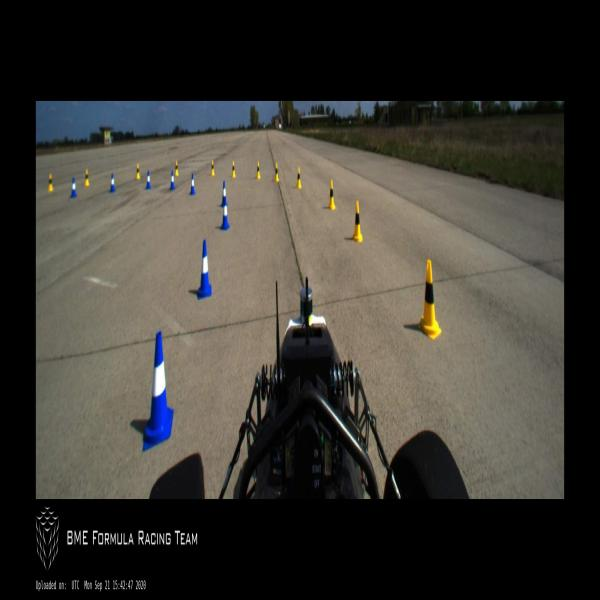blue_cone: (143, 332, 173, 451), (198, 240, 212, 297), (221, 199, 229, 229), (221, 182, 227, 206), (70, 178, 76, 198), (110, 173, 115, 193), (170, 170, 175, 190), (190, 174, 195, 194), (146, 171, 151, 190)
yellow_cone: (418, 258, 441, 339), (352, 202, 362, 242), (327, 179, 334, 210), (296, 167, 302, 189), (48, 174, 53, 191), (274, 163, 278, 183), (210, 160, 215, 175), (256, 161, 260, 179), (85, 169, 89, 186), (136, 163, 140, 179), (232, 160, 235, 178), (175, 161, 178, 175)
